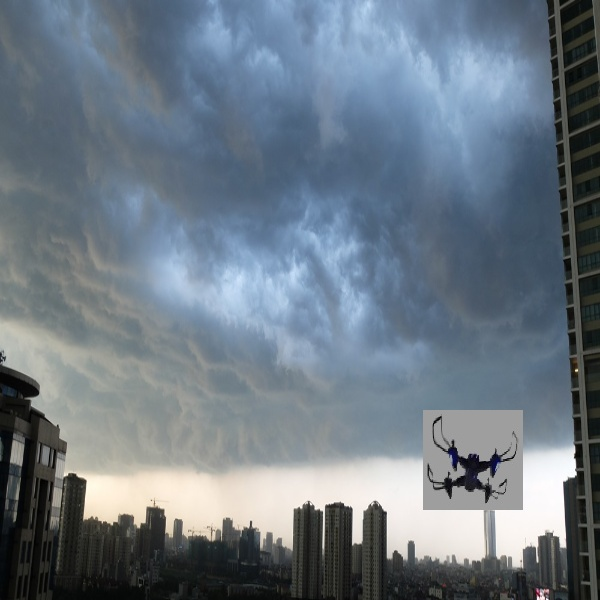drone: (419, 412, 524, 513)
